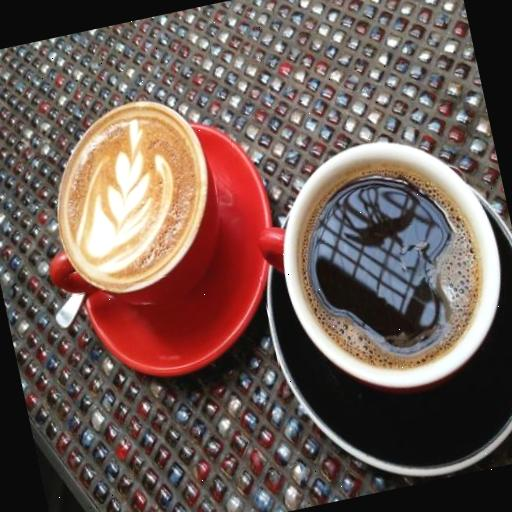cup: (18, 88, 236, 330)
